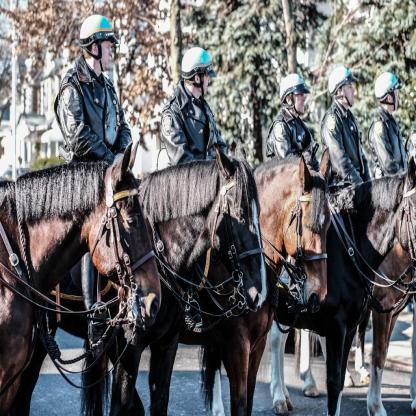Helmet: (79, 14, 119, 71), (179, 47, 214, 94), (279, 71, 310, 114), (328, 65, 358, 107), (375, 70, 403, 112)
